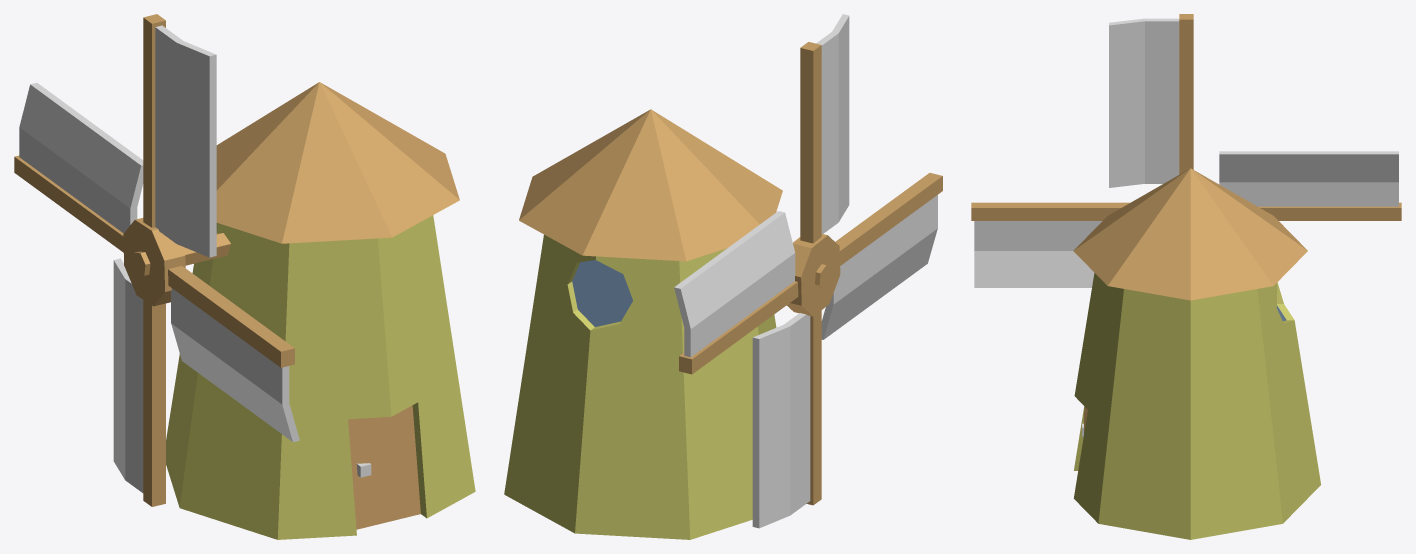
The model's file is Windmill.fbx.
The picture shows the model from 3 angles, left to right: view 1: azimuth 30°, elevation 25°; view 2: azimuth 150°, elevation 25°; view 3: azimuth 270°, elevation 25°; orthographic projection. The views are drawn at different scales.
Visible parts, largest first — view 1: Base, Wing.; view 2: Base, Wing.; view 3: Base, Wing..
Part boxes in pixels (<box>): Base: <box>166,82,475,539</box>; Wing.: <box>14,14,299,506</box>; Base: <box>504,109,782,539</box>; Wing.: <box>674,14,942,528</box>; Base: <box>1073,168,1320,539</box>; Wing.: <box>971,14,1401,287</box>.
Size of the model in its own units: 923 by 1360 by 1320.
